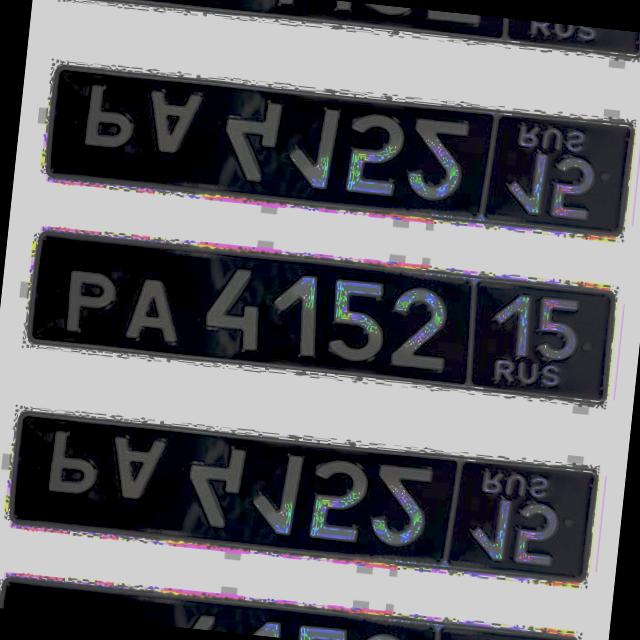military: (26, 227, 618, 405), (44, 60, 636, 238), (8, 407, 600, 585), (0, 574, 581, 640), (62, 0, 640, 58)
